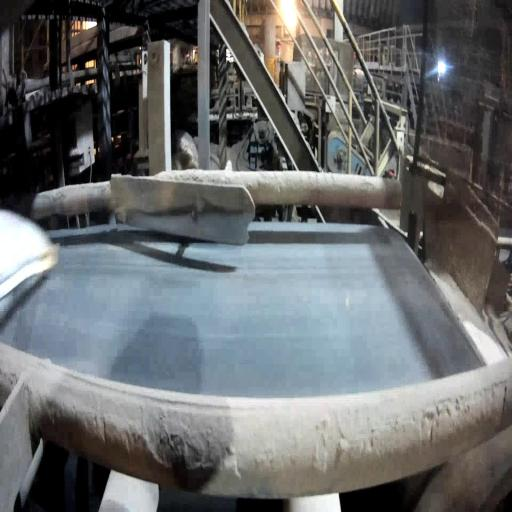c-belt-sack-count: (0, 210, 58, 306)
